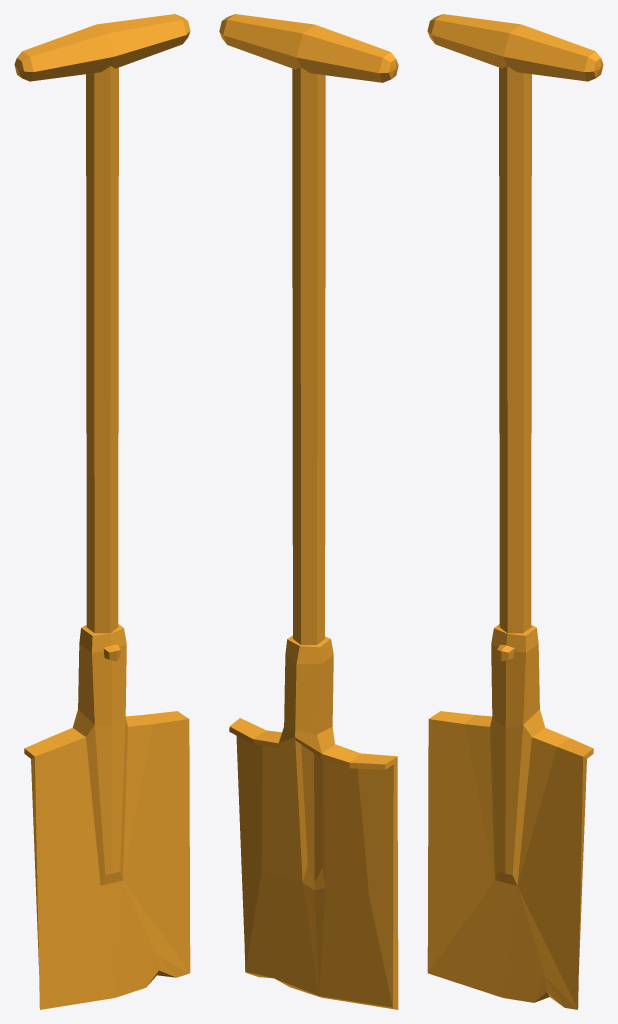
Rendered from SM_Spade_Farm_B.fbx.
The picture shows the model from 3 angles, left to right: view 1: azimuth 30°, elevation 25°; view 2: azimuth 150°, elevation 25°; view 3: azimuth 330°, elevation 25°; orthographic projection.
Visible parts, largest first — view 1: spade-farm-b; view 2: spade-farm-b; view 3: spade-farm-b.
Part boxes in pixels (x1,y1,x2,y2): spade-farm-b: (14, 14, 190, 1009); spade-farm-b: (219, 14, 398, 1009); spade-farm-b: (427, 14, 603, 1009).
Bounding box in the file's own units: 0.2 × 1.08 × 0.0574.
